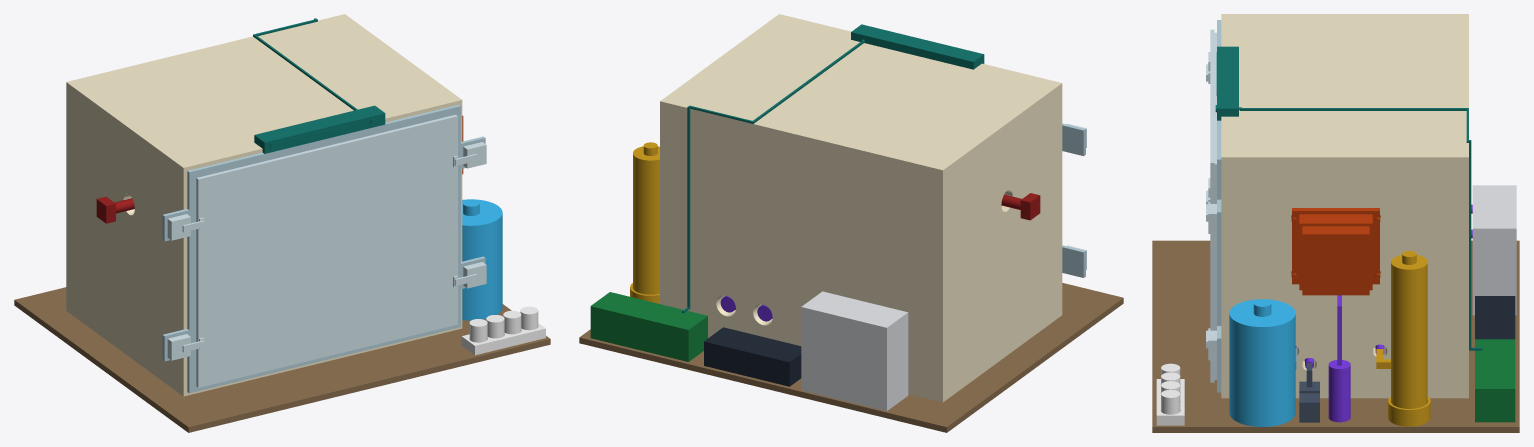
The picture shows the model from 3 angles, left to right: view 1: azimuth 30°, elevation 25°; view 2: azimuth 150°, elevation 25°; view 3: azimuth 270°, elevation 25°; orthographic projection. The views are drawn at different scales.
Visible parts, largest first — view 1: Front door with printed border, gasket and latches, Insulation jacket (XPS, all faces but the door), Base plate, 600 x 500 mm, Chamber shell, 6 mm acrylic, 36 L, Humidifier bubbler, sleeved, heated line, Front badge: name plate and status light, Salt fixed-point jars, Aerosol injection port and valve; view 2: Insulation jacket (XPS, all faces but the door), HEPA scrubber loop, Base plate, 600 x 500 mm, Controller and power board, Dryer column (silica gel), 12 V power supply (external), Front badge: name plate and status light, Chamber shell, 6 mm acrylic, 36 L, Aerosol injection port and valve; view 3: Insulation jacket (XPS, all faces but the door), Base plate, 600 x 500 mm, Humidifier bubbler, sleeved, heated line, Peltier heat pump, 60 W, Dryer column (silica gel), HEPA scrubber loop, Controller and power board, Front badge: name plate and status light, Front door with printed border, gasket and latches, Bulkhead fittings, glands and drain, 12 V power supply (external), Salt fixed-point jars (+2 smaller).
Part boxes in pixels (x1,y1,x2,y2): Front door with printed border, gasket and latches: (167, 114, 486, 387); Insulation jacket (XPS, all faces but the door): (66, 14, 462, 396); Base plate, 600 x 500 mm: (14, 287, 550, 432); Chamber shell, 6 mm acrylic, 36 L: (162, 104, 485, 393); Humidifier bubbler, sleeved, heated line: (462, 199, 502, 320); Front badge: name plate and status light: (253, 18, 385, 153); Salt fixed-point jars: (461, 306, 545, 355); Aerosol injection port and valve: (96, 196, 134, 223); Insulation jacket (XPS, all faces but the door): (660, 14, 1062, 402); HEPA scrubber loop: (801, 291, 908, 410); Base plate, 600 x 500 mm: (579, 283, 1123, 432); Controller and power board: (590, 292, 707, 361); Dryer column (silica gel): (630, 142, 659, 303); 12 V power supply (external): (704, 327, 801, 386); Front badge: name plate and status light: (682, 24, 984, 313); Chamber shell, 6 mm acrylic, 36 L: (735, 123, 1085, 318); Aerosol injection port and valve: (1001, 193, 1040, 220); Insulation jacket (XPS, all faces but the door): (1221, 14, 1468, 398); Base plate, 600 x 500 mm: (1152, 240, 1519, 432); Humidifier bubbler, sleeved, heated line: (1229, 299, 1296, 426); Peltier heat pump, 60 W: (1291, 208, 1380, 295); Dryer column (silica gel): (1376, 250, 1430, 426); HEPA scrubber loop: (1472, 185, 1516, 315); Controller and power board: (1475, 339, 1515, 422); Front badge: name plate and status light: (1215, 46, 1482, 350); Front door with printed border, gasket and latches: (1206, 29, 1216, 382); Bulkhead fittings, glands and drain: (1295, 204, 1472, 422); 12 V power supply (external): (1475, 296, 1515, 339); Salt fixed-point jars: (1156, 363, 1184, 425).
Bounding box in the file's own units: 0.6 × 0.383 × 0.5.
